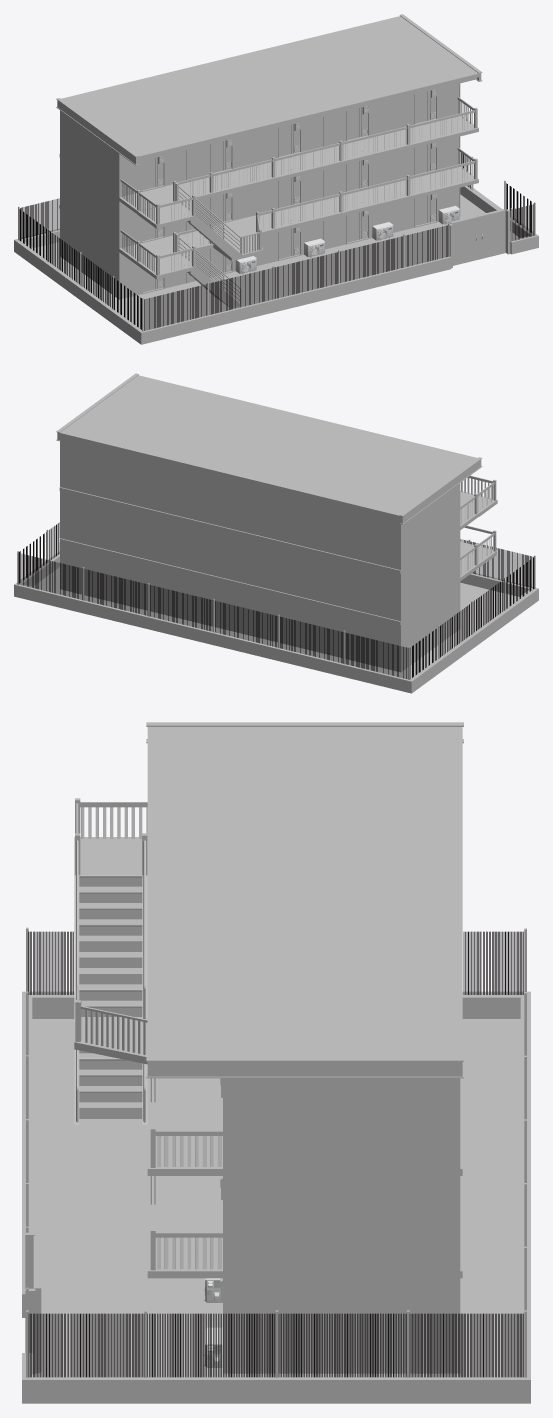
File: Apartment1.fbx
3 renders of one model, top to bottom at view 1: azimuth 30°, elevation 25°; view 2: azimuth 150°, elevation 25°; view 3: azimuth 270°, elevation 25°, orthographic. The views are drawn at different scales.
Parts seen in each view (by area): view 1: Apartment1, CompoundWall, AirConditioner_A1; view 2: Apartment1, CompoundWall; view 3: Apartment1, CompoundWall, AirConditioner_A1.
Boxes of the visible parts, <box> form: Apartment1: <box>56,14,482,307</box>; CompoundWall: <box>14,153,538,344</box>; AirConditioner_A1: <box>235,205,459,274</box>; Apartment1: <box>56,373,497,672</box>; CompoundWall: <box>14,522,538,693</box>; Apartment1: <box>74,722,463,1373</box>; CompoundWall: <box>22,927,530,1403</box>; AirConditioner_A1: <box>203,1278,222,1367</box>.
Bounding box in the file's own units: 3500 × 1337 × 1940.
